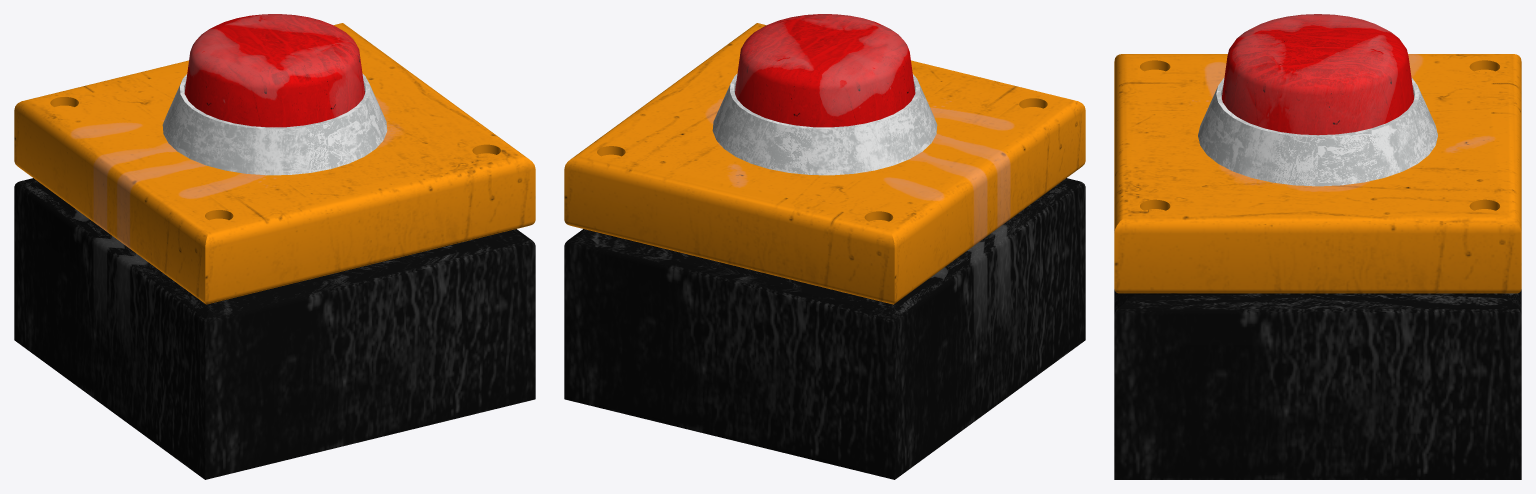
The model's file is button2.fbx.
3 renders of one model, left to right at view 1: azimuth 30°, elevation 25°; view 2: azimuth 150°, elevation 25°; view 3: azimuth 270°, elevation 25°, orthographic. The views are drawn at different scales.
Parts seen in each view (by area): view 1: 1; view 2: 1; view 3: 1.
Part boxes in pixels (box(x1,y1,x2,y2)): 1: box(14, 14, 535, 479); 1: box(564, 14, 1085, 479); 1: box(1114, 14, 1521, 479).
Bounding box in the file's own units: 69.41 × 65.85 × 69.41.
3 materials, 3 textured.
